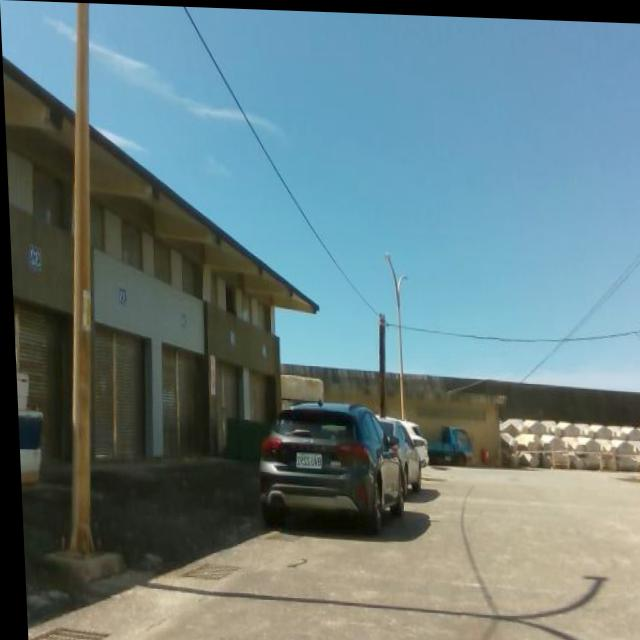pollute: (13, 370, 45, 487)
